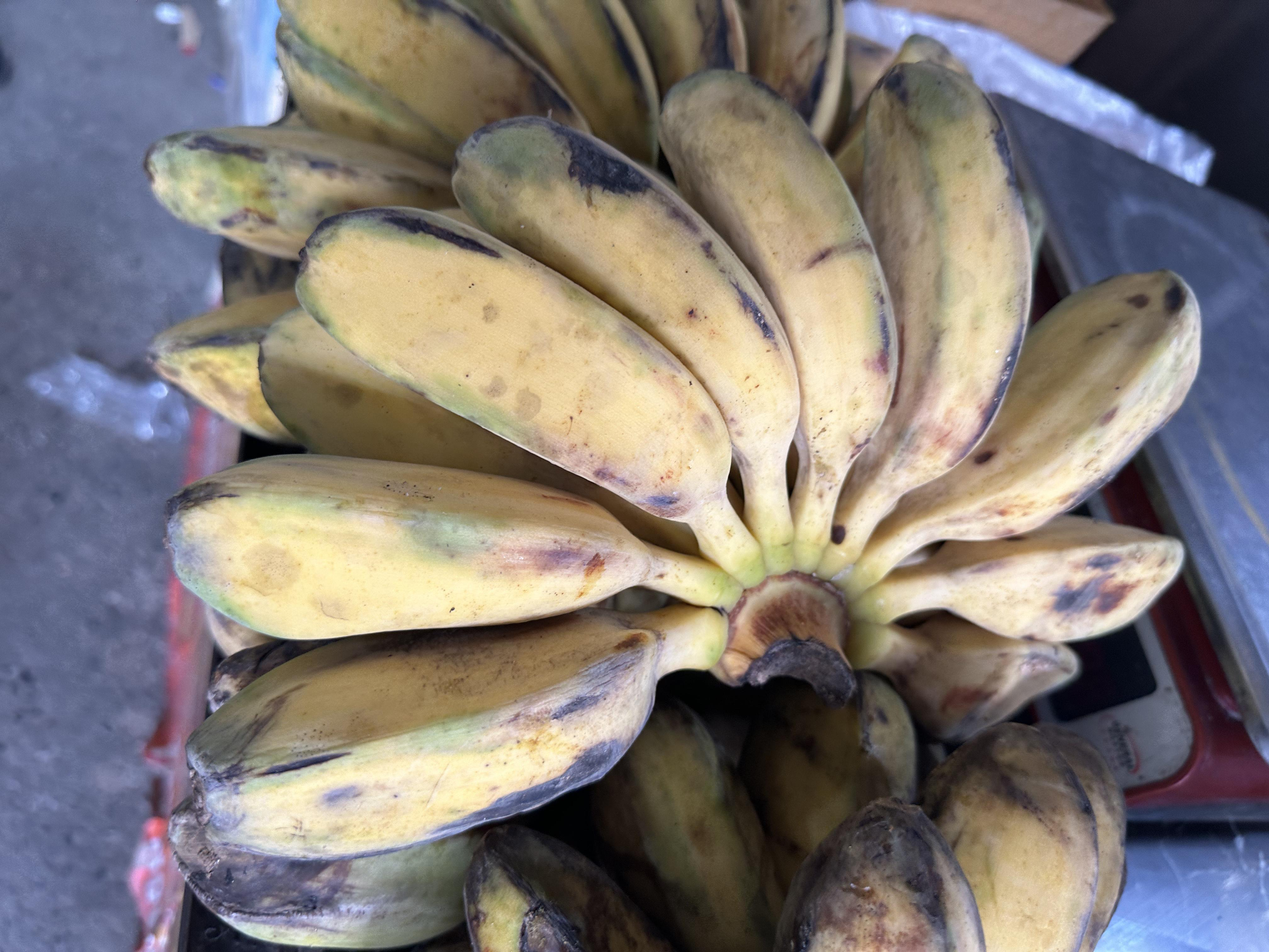underripe: (164, 66, 1201, 856), (145, 0, 845, 442), (464, 672, 1126, 952)
